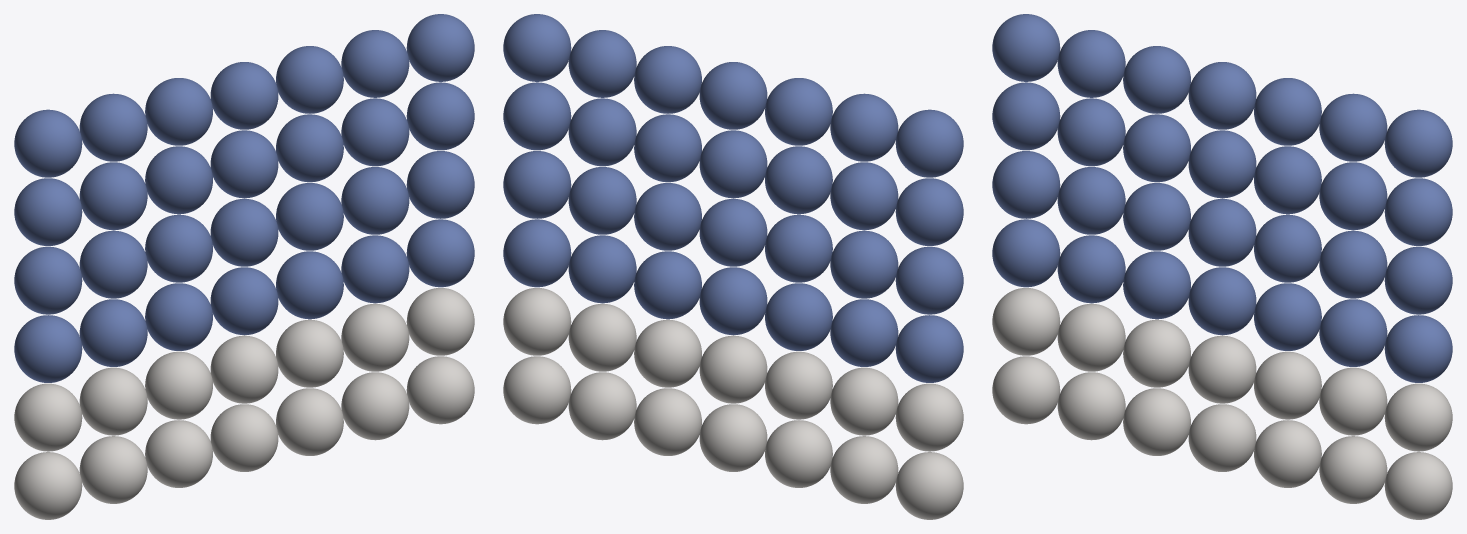
Rendered from diffuse_fuzz_test.glb.
3 renders of one model, left to right at view 1: azimuth 30°, elevation 25°; view 2: azimuth 150°, elevation 25°; view 3: azimuth 330°, elevation 25°, orthographic.
Visible parts, largest first — view 1: 01_fuzz_factor_0.83, 04_diffuse_rough_0.17, 02_fuzz_black_0.00, 04_diffuse_rough_0.00, 00_sheen_ref_0.00, 04_diffuse_rough_0.50, 01_fuzz_factor_0.50, 03_fuzz_rough_0.17, 01_fuzz_factor_0.17, 01_fuzz_factor_1.00, 02_fuzz_black_0.17, 02_fuzz_black_0.50 (+30 smaller); view 2: 01_fuzz_factor_0.83, 04_diffuse_rough_0.17, 02_fuzz_black_0.00, 04_diffuse_rough_0.00, 00_sheen_ref_0.00, 04_diffuse_rough_0.50, 01_fuzz_factor_0.50, 03_fuzz_rough_0.17, 01_fuzz_factor_0.17, 01_fuzz_factor_1.00, 02_fuzz_black_0.17, 02_fuzz_black_0.50 (+30 smaller); view 3: 01_fuzz_factor_0.17, 04_diffuse_rough_0.83, 02_fuzz_black_1.00, 04_diffuse_rough_1.00, 00_sheen_ref_1.00, 04_diffuse_rough_0.50, 01_fuzz_factor_0.50, 03_fuzz_rough_0.83, 01_fuzz_factor_0.00, 01_fuzz_factor_0.83, 02_fuzz_black_0.50, 02_fuzz_black_0.83 (+30 smaller).
Part boxes in pixels (left/top/right/bottom): 01_fuzz_factor_0.83: left=341, top=98, right=409, bottom=166; 04_diffuse_rough_0.17: left=79, top=367, right=147, bottom=435; 02_fuzz_black_0.00: left=14, top=246, right=82, bottom=314; 04_diffuse_rough_0.00: left=14, top=383, right=82, bottom=451; 00_sheen_ref_0.00: left=14, top=109, right=82, bottom=177; 04_diffuse_rough_0.50: left=210, top=335, right=278, bottom=403; 01_fuzz_factor_0.50: left=210, top=130, right=278, bottom=198; 03_fuzz_rough_0.17: left=79, top=299, right=147, bottom=366; 01_fuzz_factor_0.17: left=79, top=162, right=147, bottom=230; 01_fuzz_factor_1.00: left=406, top=82, right=474, bottom=150; 02_fuzz_black_0.17: left=79, top=230, right=147, bottom=298; 02_fuzz_black_0.50: left=210, top=198, right=278, bottom=266; 01_fuzz_factor_0.83: left=568, top=98, right=636, bottom=166; 04_diffuse_rough_0.17: left=830, top=367, right=898, bottom=435; 02_fuzz_black_0.00: left=895, top=246, right=963, bottom=314; 04_diffuse_rough_0.00: left=895, top=383, right=963, bottom=451; 00_sheen_ref_0.00: left=895, top=109, right=963, bottom=177; 04_diffuse_rough_0.50: left=699, top=335, right=767, bottom=403; 01_fuzz_factor_0.50: left=699, top=130, right=767, bottom=198; 03_fuzz_rough_0.17: left=830, top=299, right=898, bottom=366; 01_fuzz_factor_0.17: left=830, top=162, right=898, bottom=230; 01_fuzz_factor_1.00: left=503, top=82, right=571, bottom=150; 02_fuzz_black_0.17: left=830, top=230, right=898, bottom=298; 02_fuzz_black_0.50: left=699, top=198, right=767, bottom=266; 01_fuzz_factor_0.17: left=1057, top=98, right=1125, bottom=166; 04_diffuse_rough_0.83: left=1319, top=367, right=1387, bottom=435; 02_fuzz_black_1.00: left=1384, top=246, right=1452, bottom=314; 04_diffuse_rough_1.00: left=1384, top=383, right=1452, bottom=451; 00_sheen_ref_1.00: left=1384, top=109, right=1452, bottom=177; 04_diffuse_rough_0.50: left=1188, top=335, right=1256, bottom=403; 01_fuzz_factor_0.50: left=1188, top=130, right=1256, bottom=198; 03_fuzz_rough_0.83: left=1319, top=299, right=1387, bottom=366; 01_fuzz_factor_0.00: left=992, top=82, right=1060, bottom=150; 01_fuzz_factor_0.83: left=1319, top=162, right=1387, bottom=230; 02_fuzz_black_0.50: left=1188, top=198, right=1256, bottom=266; 02_fuzz_black_0.83: left=1319, top=230, right=1387, bottom=298.
Size of the model in its own units: 6.9 by 5.9 by 0.9.
